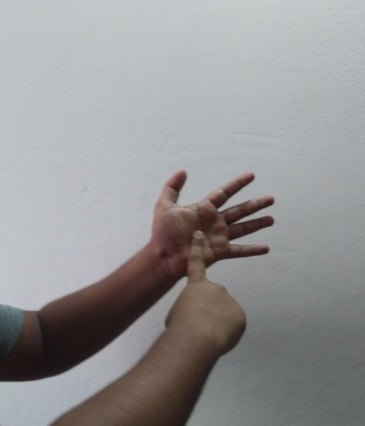oo: (145, 169, 278, 351)
